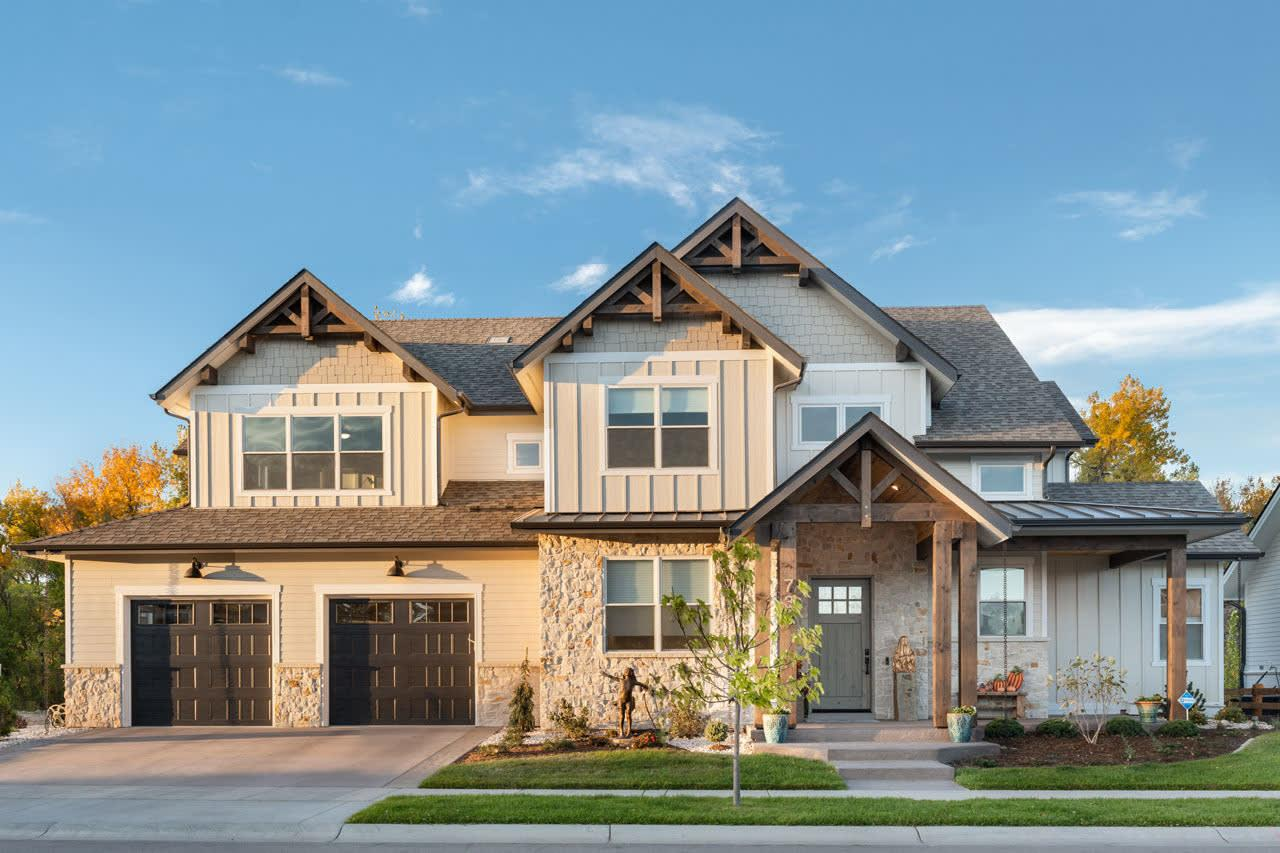casa: (60, 164, 1226, 774)
